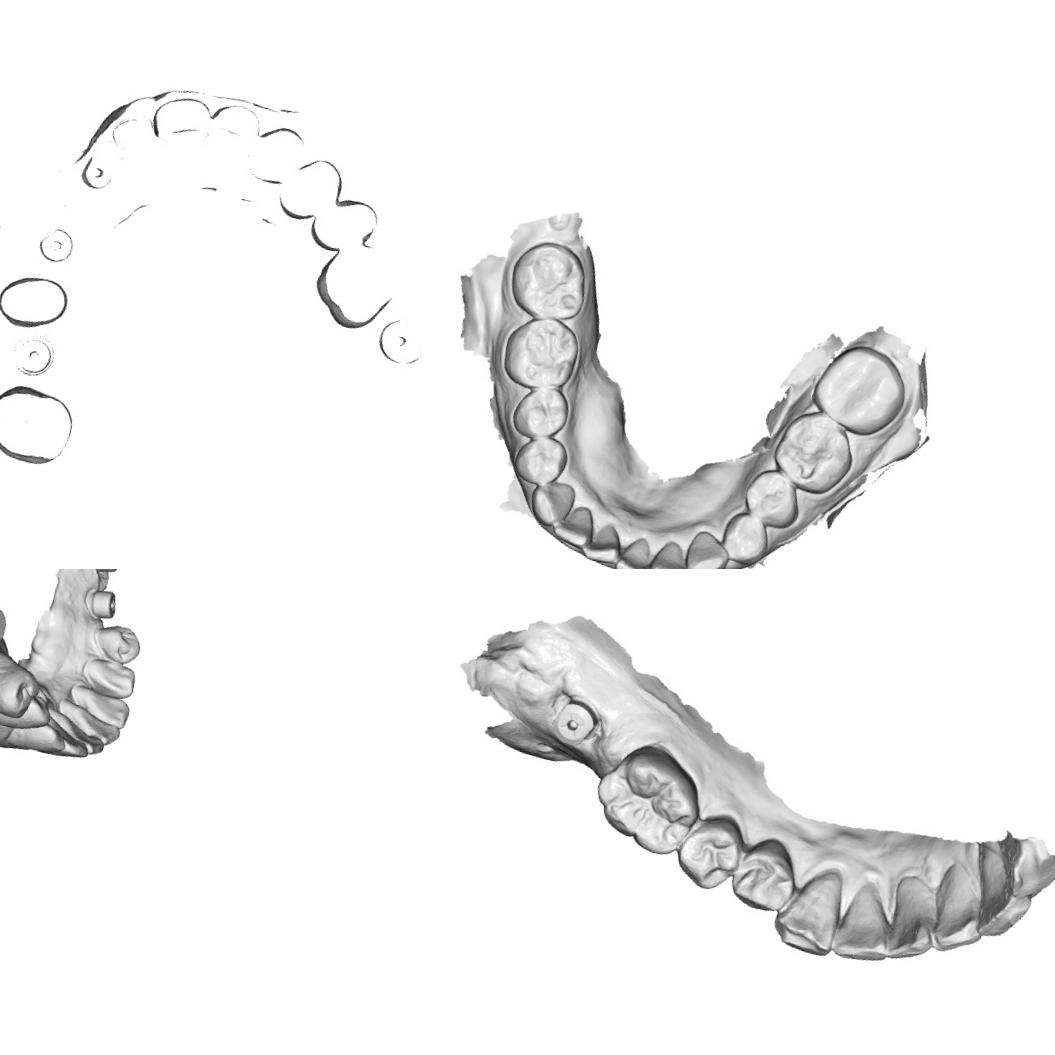canine: (767, 859, 848, 962), (76, 652, 140, 704), (4, 712, 69, 763), (526, 475, 578, 530), (679, 527, 734, 569)
implant: (81, 580, 122, 623), (0, 597, 11, 653)
implant_plus: (550, 695, 604, 748)
incisor: (962, 849, 1042, 946), (928, 866, 996, 960), (879, 876, 948, 968), (826, 884, 897, 968), (68, 684, 134, 732), (66, 706, 125, 750), (550, 499, 598, 550), (579, 518, 626, 567), (611, 531, 657, 569), (46, 732, 92, 770), (646, 534, 695, 569), (61, 725, 110, 760)
molar: (584, 735, 706, 861), (804, 336, 915, 444), (766, 404, 863, 501), (502, 234, 596, 328), (496, 308, 586, 401)
premolar: (671, 808, 752, 898), (726, 838, 800, 918), (738, 463, 808, 533), (508, 380, 575, 446), (509, 431, 572, 492), (716, 507, 774, 569), (0, 654, 46, 725), (91, 620, 146, 668), (14, 692, 56, 734)
